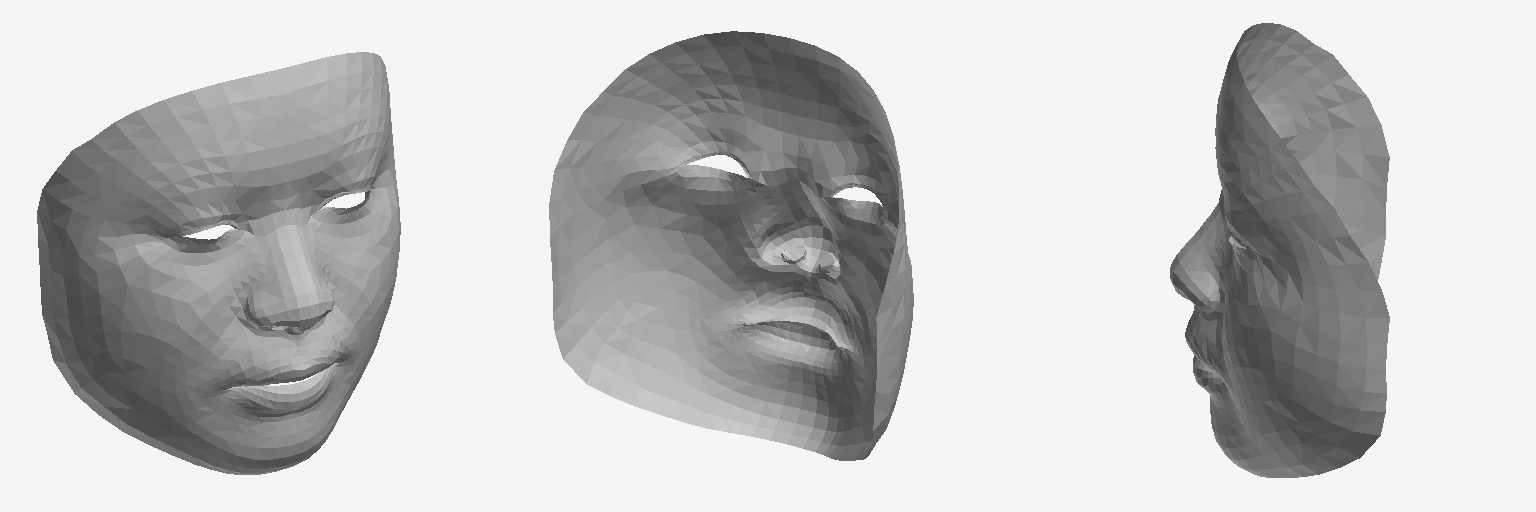
Rendered from cheekSquint_R.obj.
3 views of the same model, side by side, from view 1: azimuth 30°, elevation 25°; view 2: azimuth 150°, elevation 25°; view 3: azimuth 270°, elevation 25° (orthographic).
Parts seen in each view (by area): view 1: default; view 2: default; view 3: default.
Boxes of the visible parts, <box> form: default: <box>37,52,400,474</box>; default: <box>549,31,913,460</box>; default: <box>1170,23,1389,477</box>.
Bounding box in the file's own units: 0.1624 × 0.1851 × 0.0913.